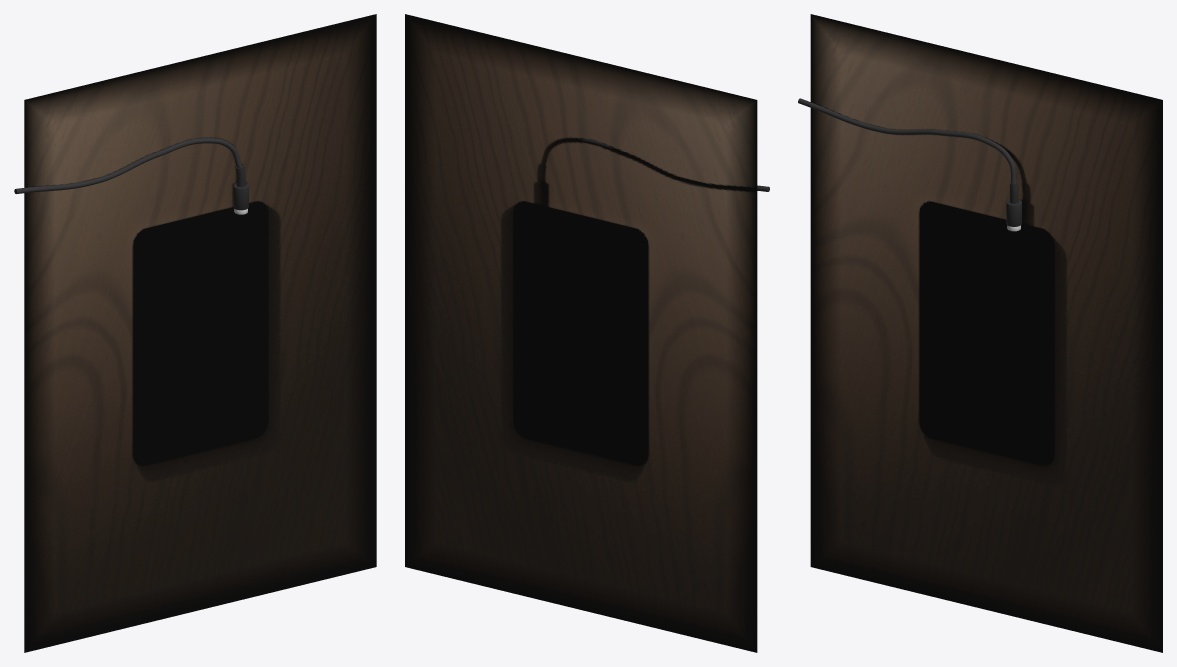
The model's file is pocket_desk.glb.
3 views of the same model, side by side, from view 1: azimuth 30°, elevation 25°; view 2: azimuth 150°, elevation 25°; view 3: azimuth 330°, elevation 25° (orthographic).
Parts seen in each view (by area): view 1: pocket_desk, pocket_cable; view 2: pocket_desk; view 3: pocket_desk, pocket_cable.
Boxes of the visible parts, <box> form: pocket_desk: <box>24,14,376,652</box>; pocket_cable: <box>14,138,242,193</box>; pocket_desk: <box>405,14,757,652</box>; pocket_desk: <box>810,14,1162,652</box>; pocket_cable: <box>798,98,1016,183</box>.
Bounding box in the file's own units: 0.1646 × 0.24 × 0.00858.
4 materials, 1 textured.
